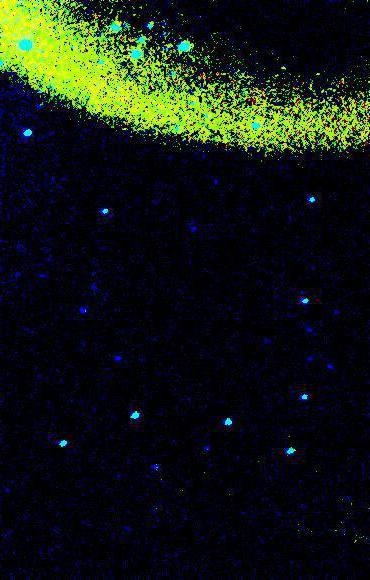star: (190, 430, 220, 460)
